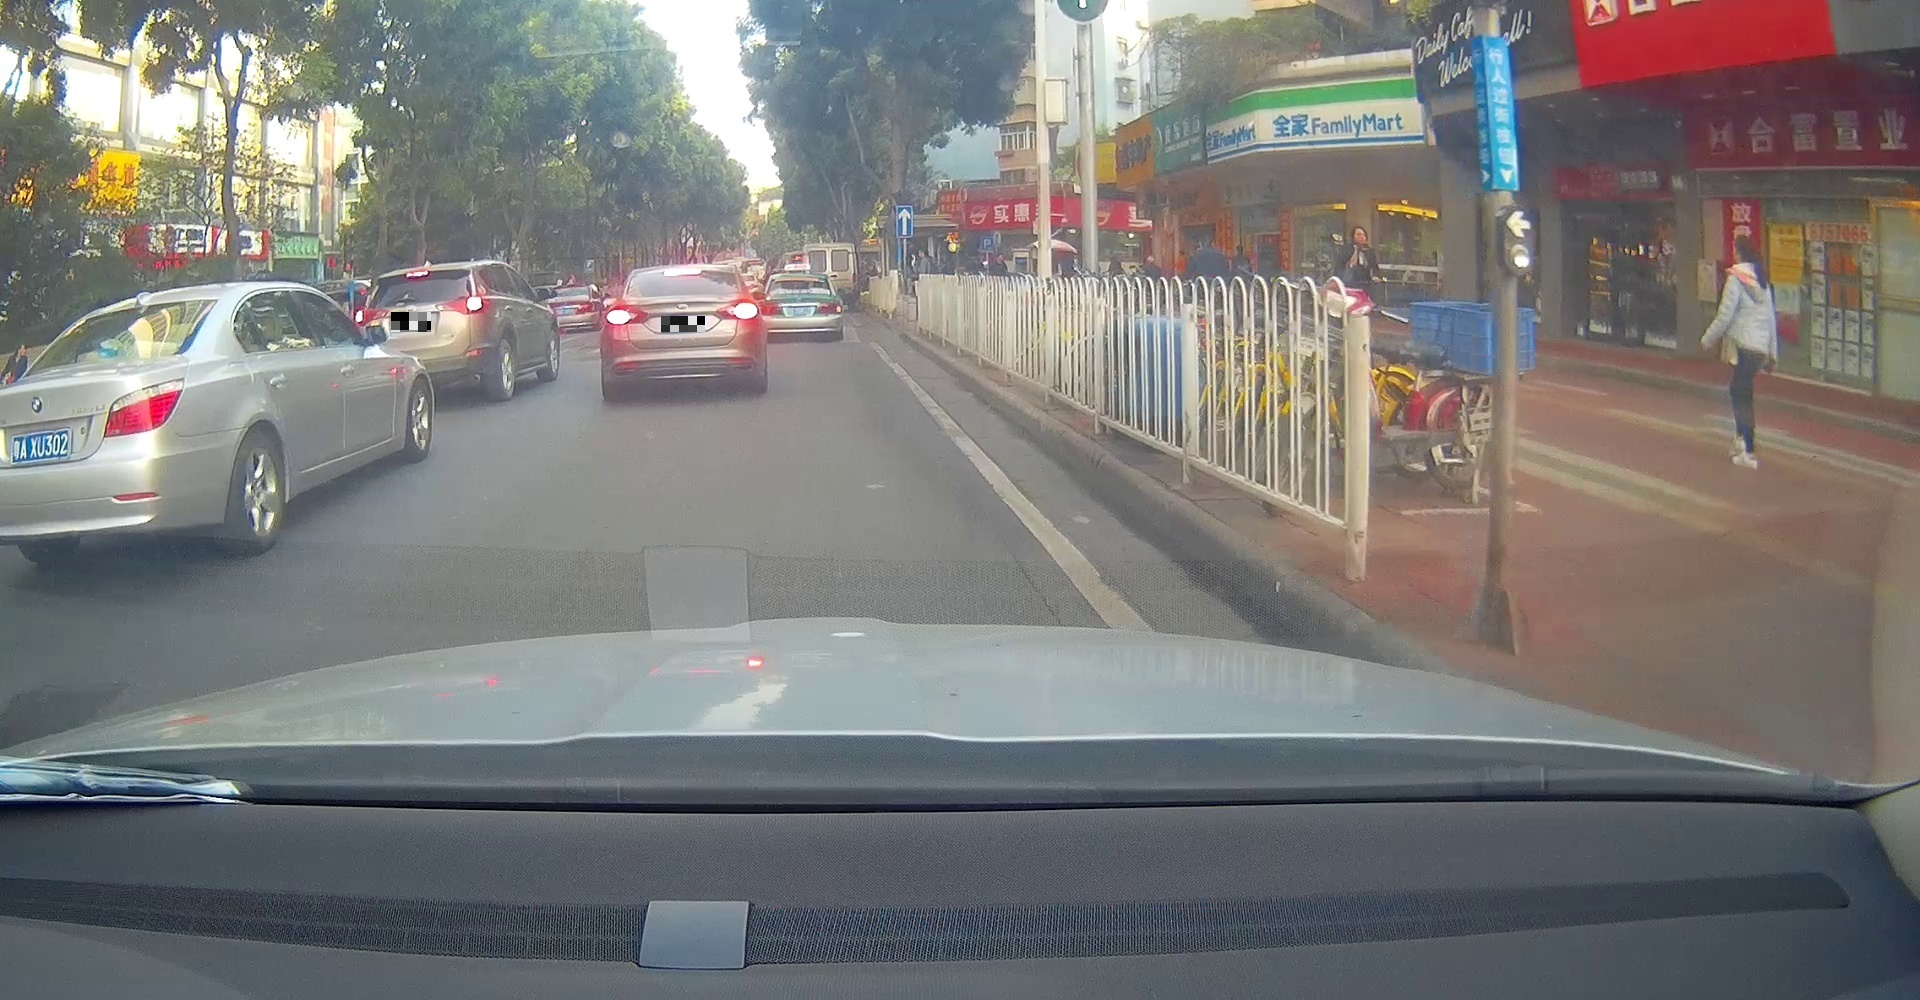L_light: (604, 303, 648, 324), (354, 307, 389, 326)
R_light: (436, 294, 488, 316), (717, 298, 759, 320)
T_light: (663, 266, 701, 275), (405, 270, 428, 278)
day-brake: (601, 264, 766, 400), (356, 260, 498, 402)
plate_1: (391, 312, 430, 332)
plate_2: (662, 316, 705, 332)
